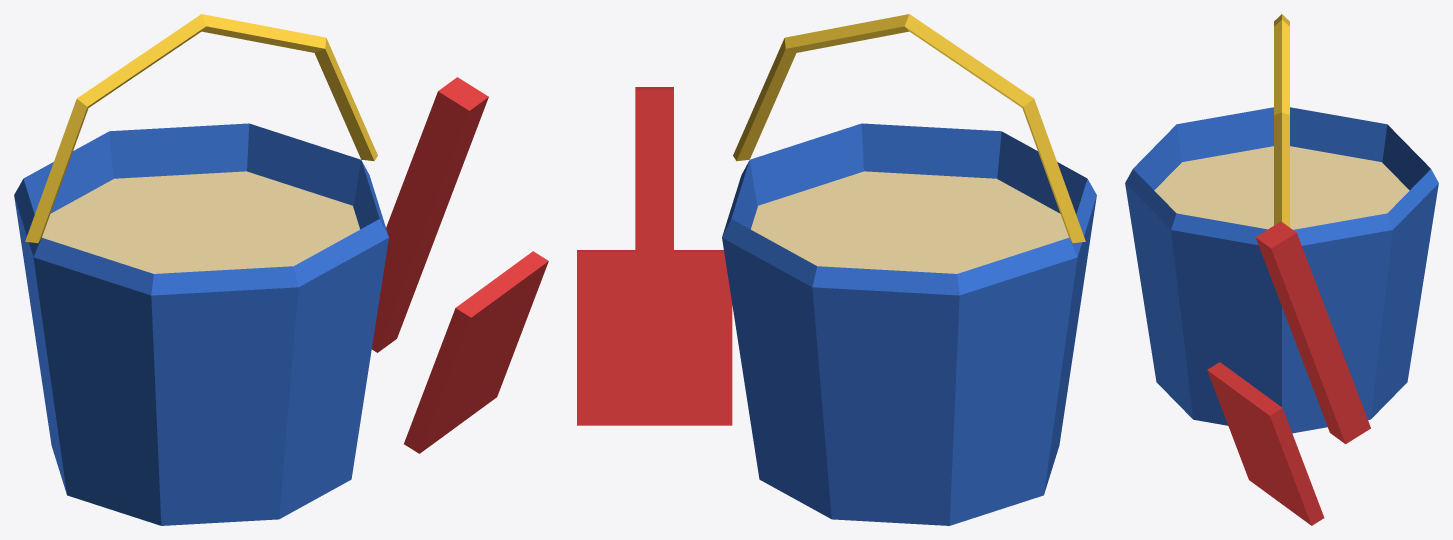
File: SandBucket.fbx
The picture shows the model from 3 angles, left to right: view 1: azimuth 30°, elevation 25°; view 2: azimuth 150°, elevation 25°; view 3: azimuth 270°, elevation 25°; orthographic projection. The views are drawn at different scales.
Parts seen in each view (by area): view 1: SandBucket; view 2: SandBucket; view 3: SandBucket.
Boxes of the visible parts, left/top/right/bottom form: SandBucket: left=14, top=14, right=548, bottom=525; SandBucket: left=577, top=14, right=1096, bottom=525; SandBucket: left=1125, top=14, right=1438, bottom=525.
Bounding box in the file's own units: 3.07 × 2.69 × 2.
1 material, 1 textured.
